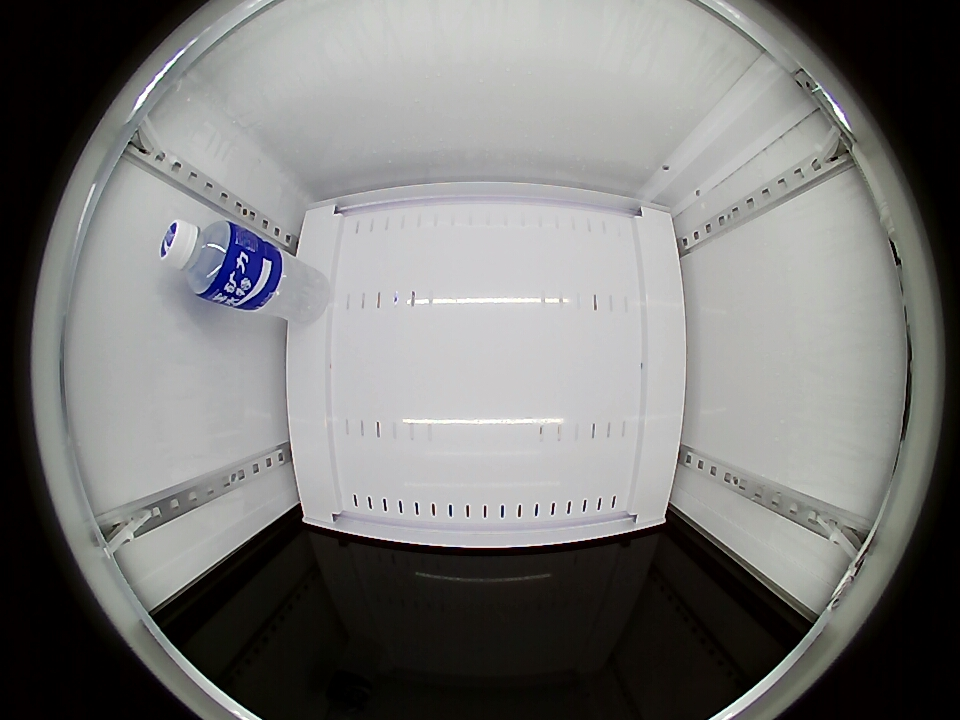baokuangli: (159, 218, 247, 303)
